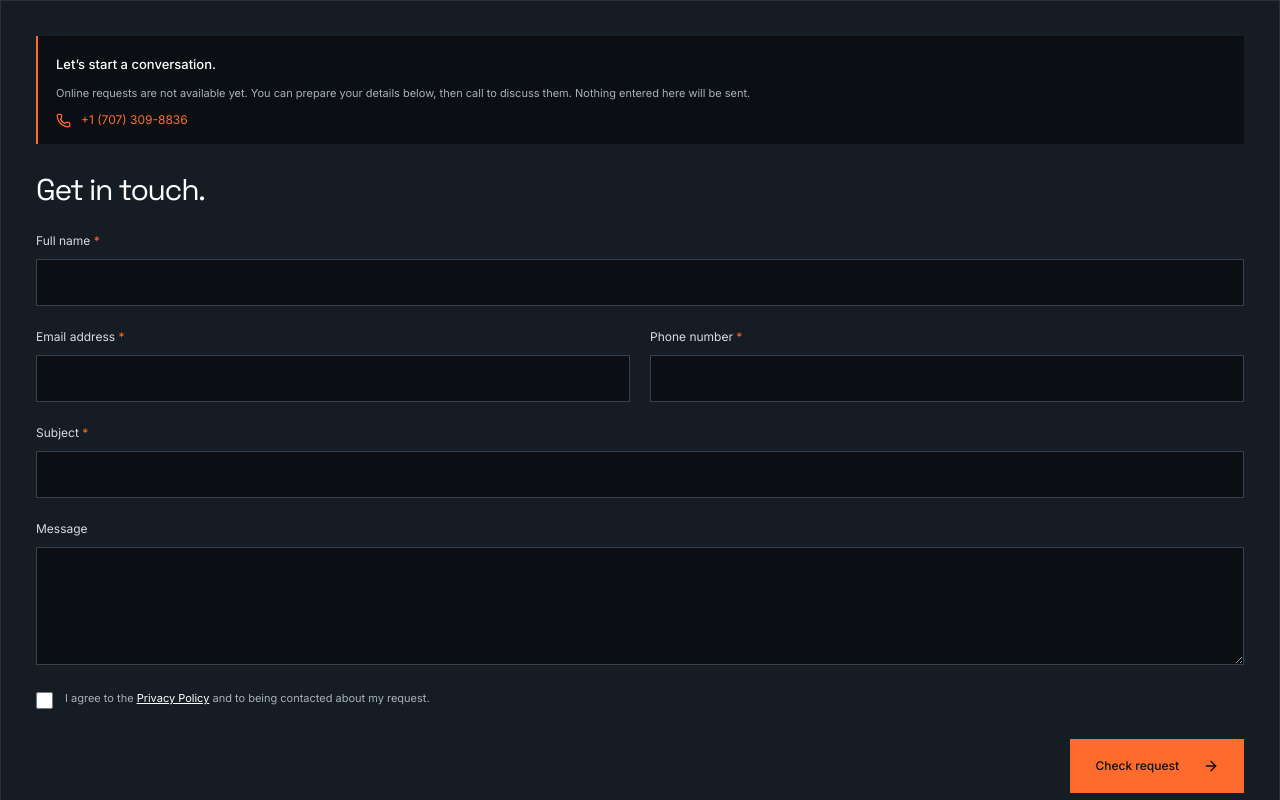
Test: never claims delivery when no endpoint is configured
Type "Test Person" into the field labelled "Full name *" at (640, 282), box [36,259,1244,306]
Type "test@example.com" into the field labelled "Email address *" at (333, 378), box [36,355,630,402]
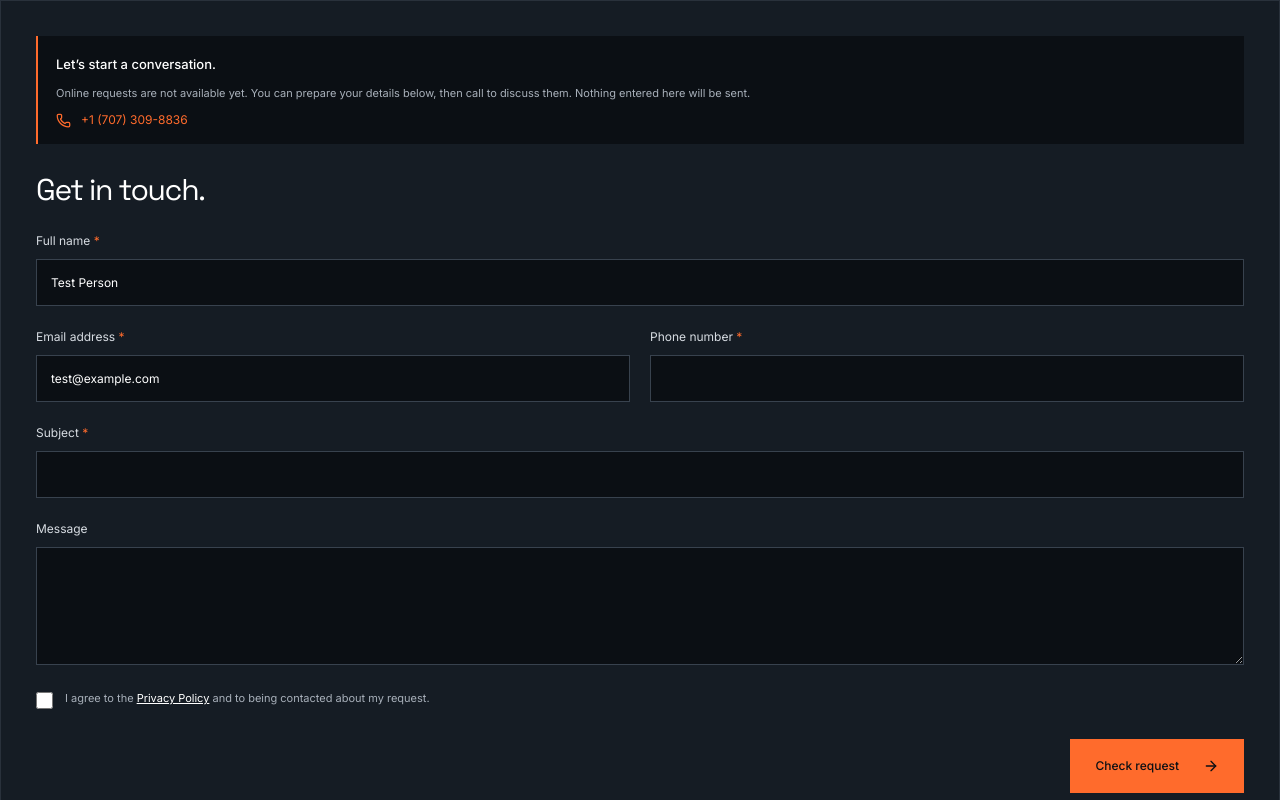
Type "7073098836" into the field labelled "Phone number *" at (947, 378), box [650,355,1244,402]
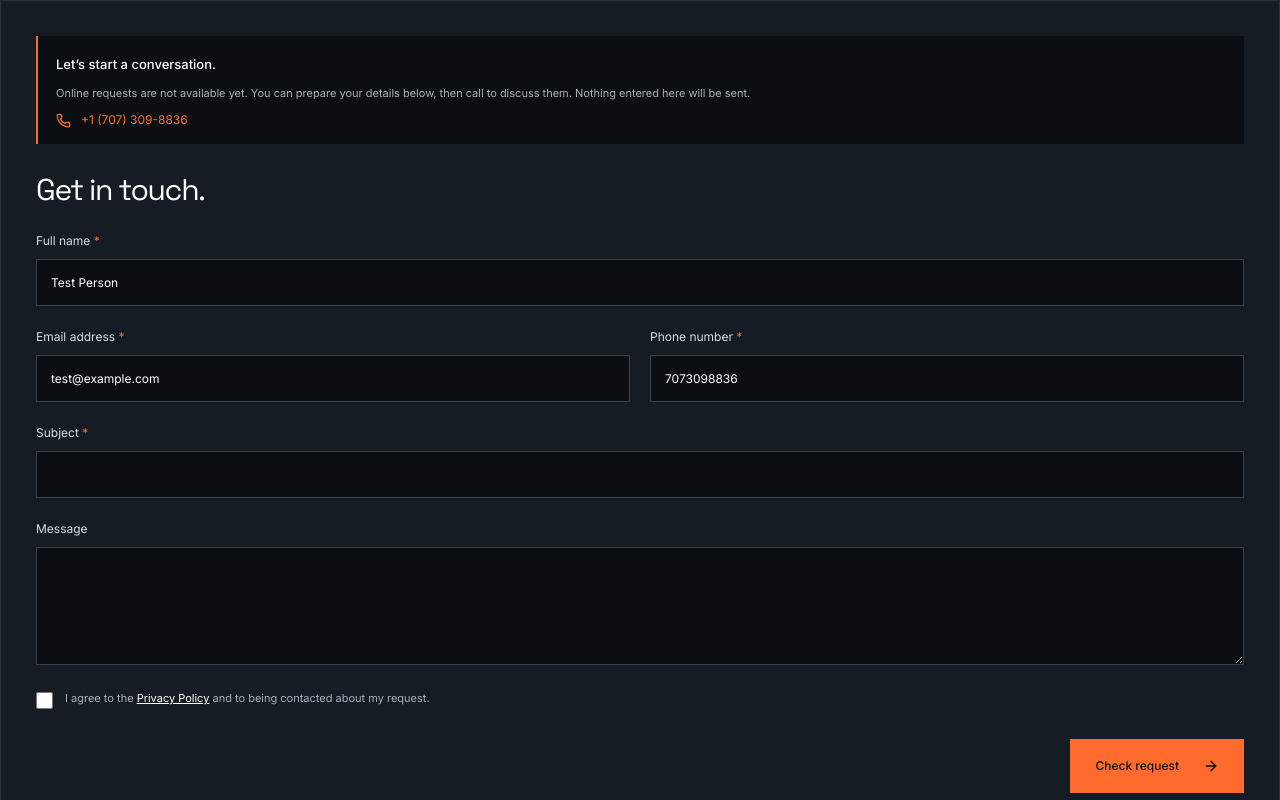
Type "Quote" into the field labelled "Subject *" at (640, 474), box [36,451,1244,498]
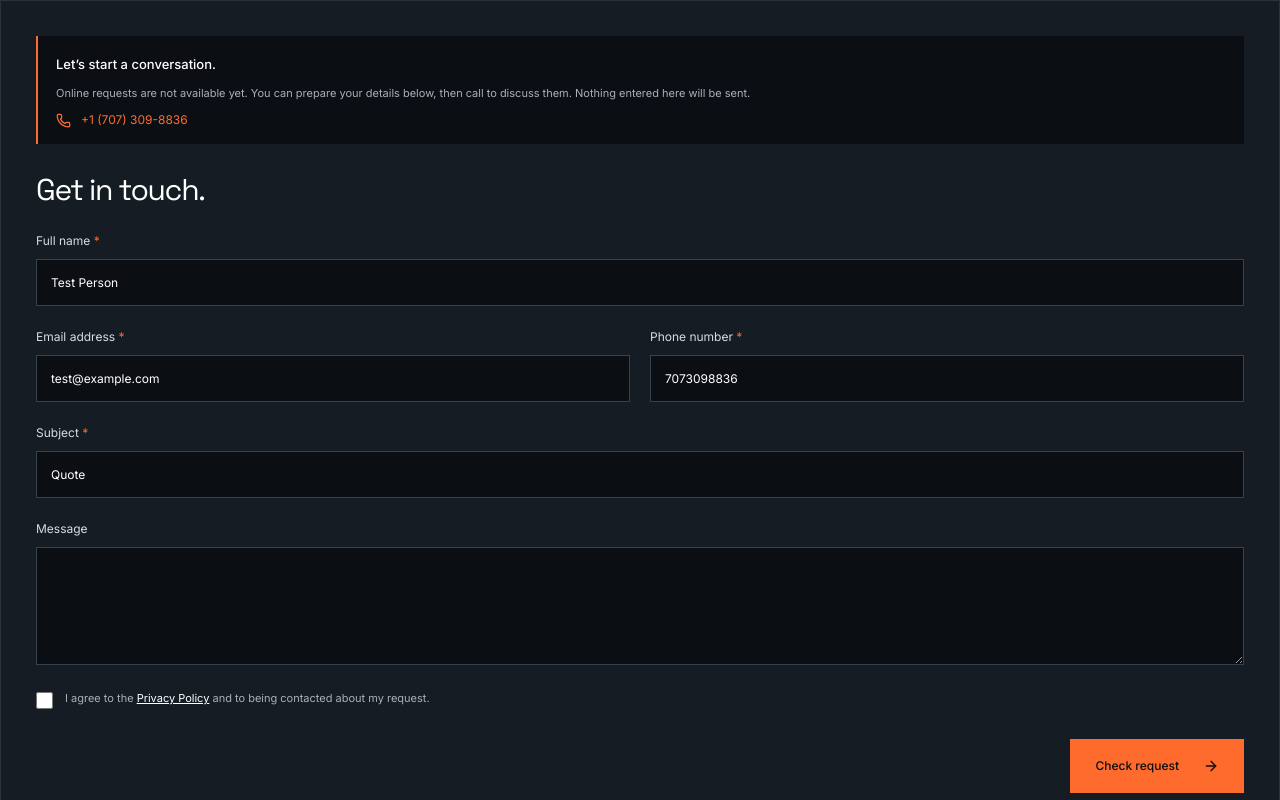
Type "Vehicle care enquiry" into the text box labelled "Message" at (640, 606), box [36,547,1244,665]
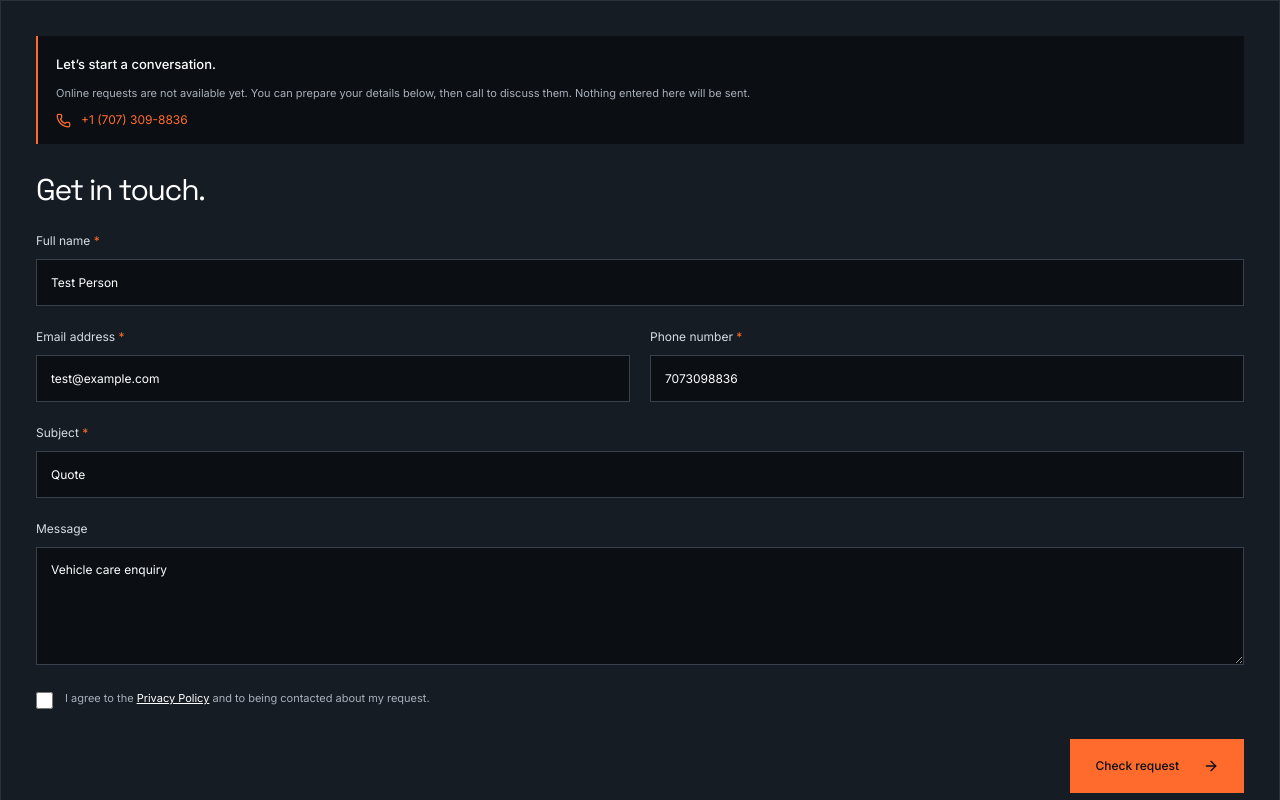
Click the checkbox at (44, 700), box [36,692,53,709]
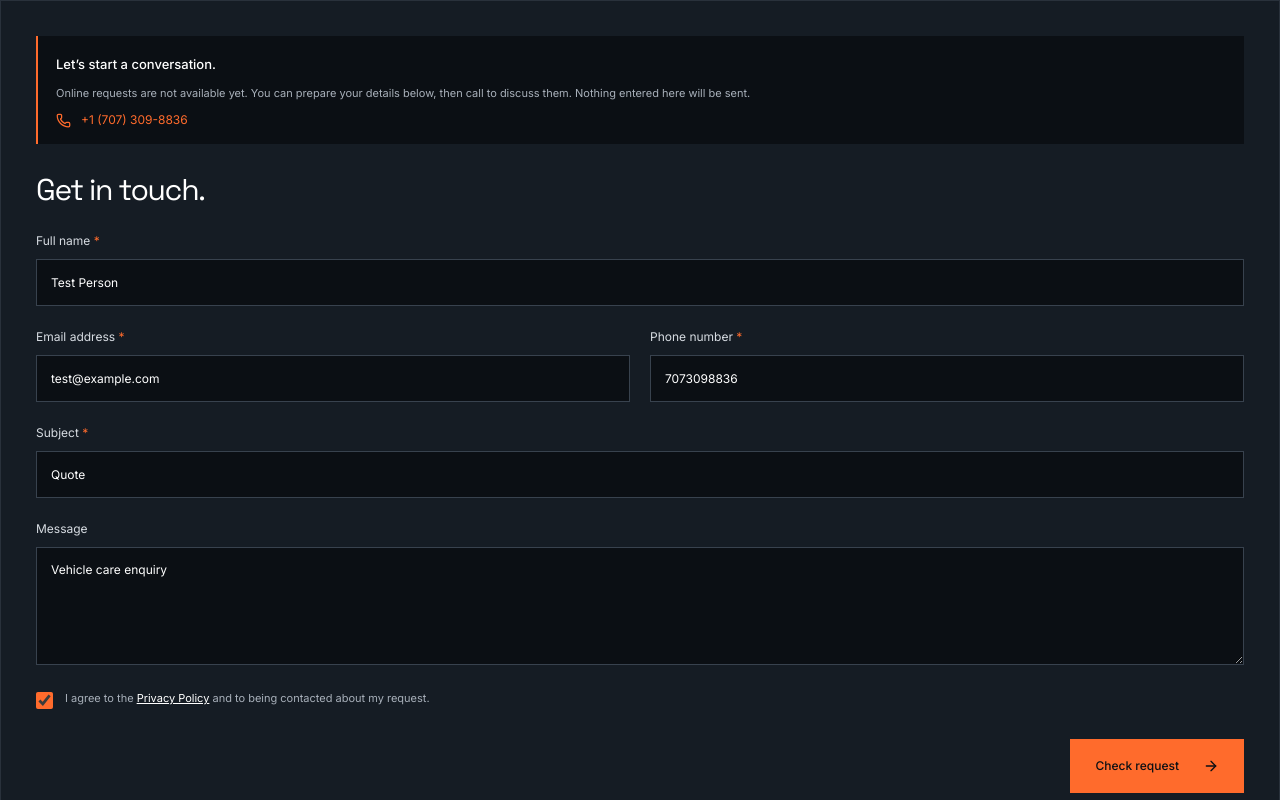
Submit the form
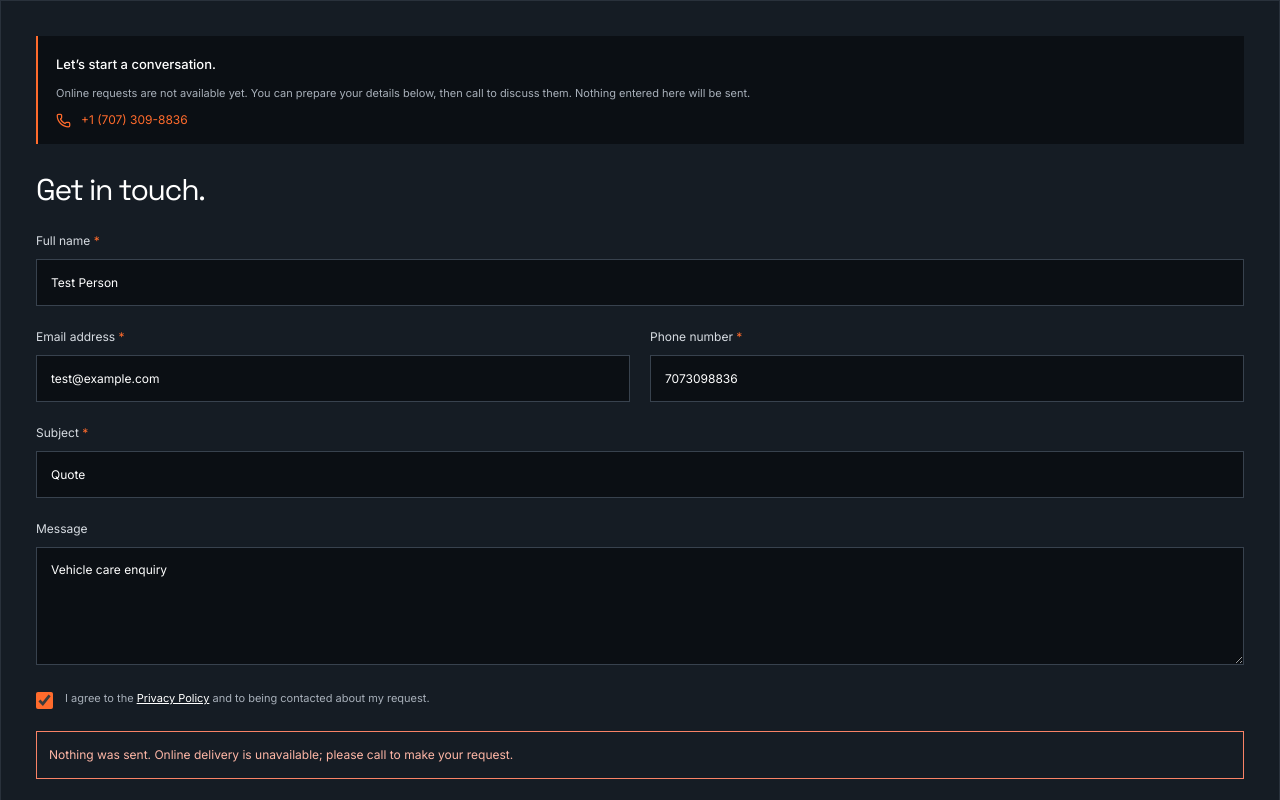
Result: the message shows "Nothing was sent" at [49,747,513,762]
